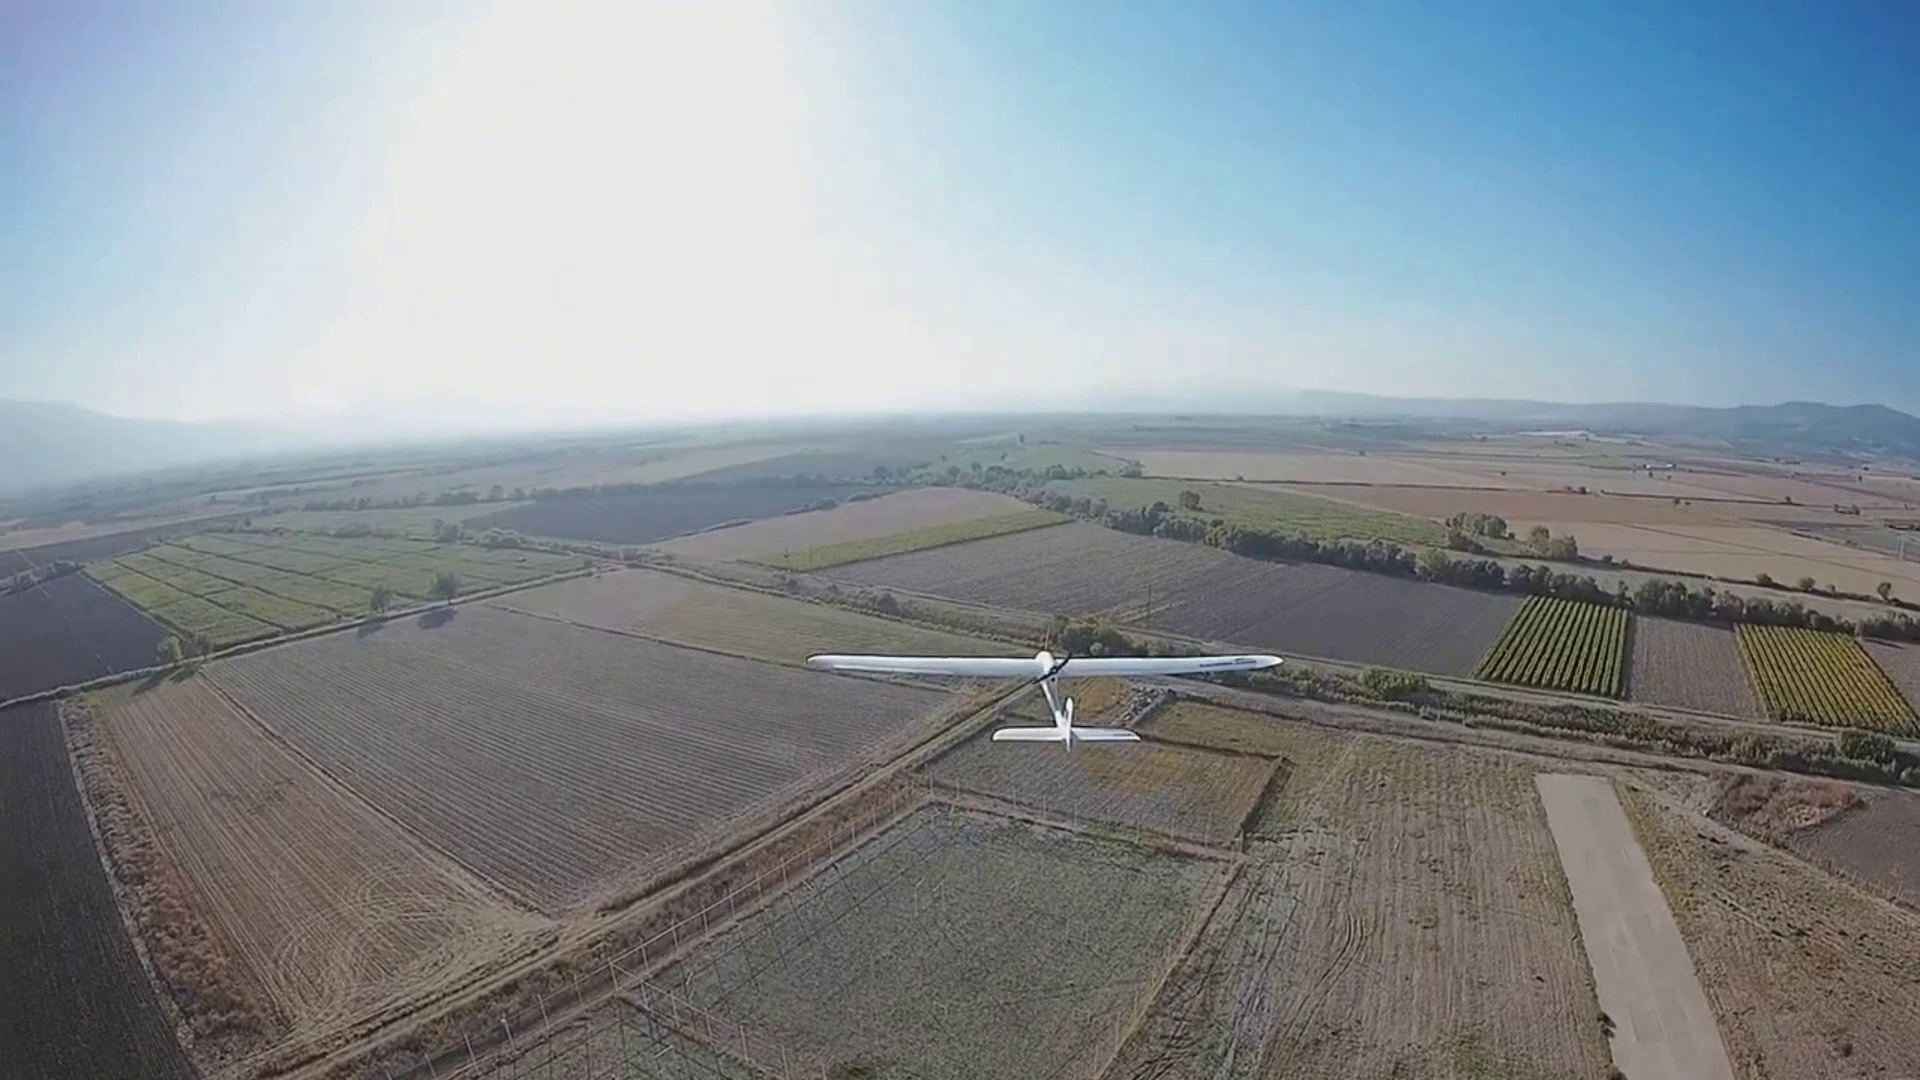airplane: (800, 634, 1286, 742)
